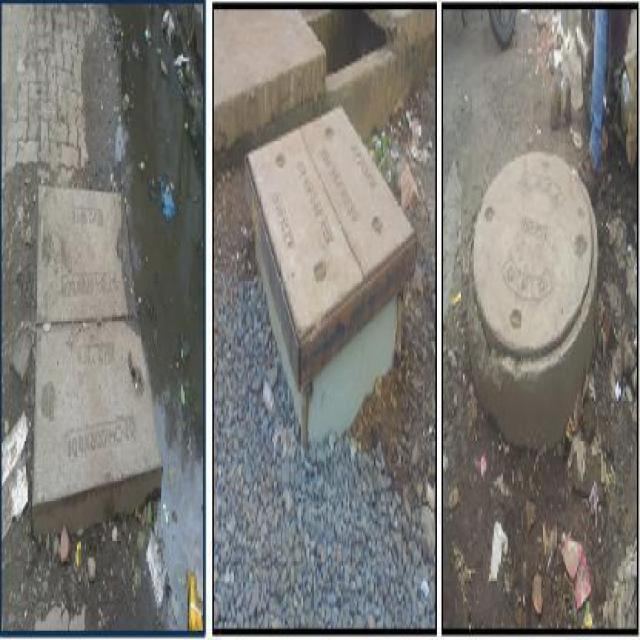Manhole: (237, 91, 431, 374), (460, 140, 603, 370), (22, 318, 174, 522), (23, 182, 156, 319)
Open Manhole: (288, 4, 404, 67)
